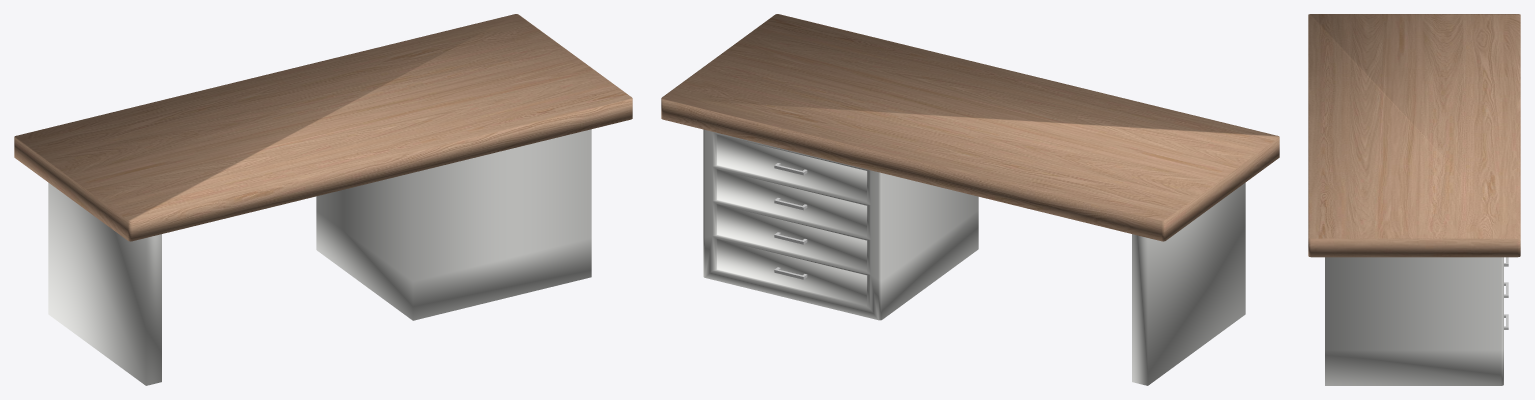
Rendered from sec1.glb.
3 views of the same model, side by side, from view 1: azimuth 30°, elevation 25°; view 2: azimuth 150°, elevation 25°; view 3: azimuth 270°, elevation 25° (orthographic). The views are drawn at different scales.
Visible parts, largest first — view 1: table top, table; view 2: table top, table; view 3: table top, table.
Part boxes in pixels (x1,y1,x2,y2): table top: (14, 14, 632, 241); table: (48, 129, 591, 385); table top: (661, 14, 1279, 241); table: (703, 129, 1245, 385); table top: (1308, 14, 1520, 257); table: (1325, 257, 1503, 385).
Bounding box in the file's own units: 5.95 × 2 × 2.38.
3 materials, 1 textured.
